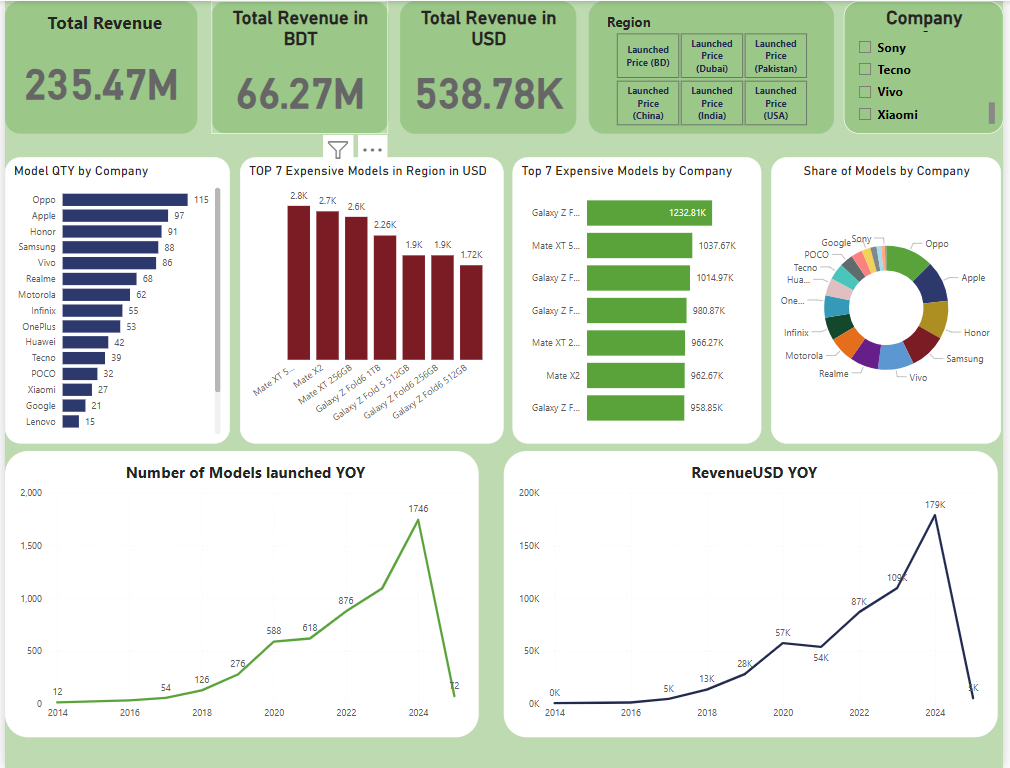

This screenshot's page, from the dashboard's own definition file:
{"tool":"powerbi","page":{"name":"Page 1","canvas":[1300,1000],"ordinal":0},"visuals":[{"type":"actionButton","box":[0,0,100,40],"z":0},{"type":"clusteredBarChart","title":"Model QTY by Company","fields":{"Category":["Mobiles PriceUnpivted.Company Name"],"Y":["Mobiles PriceUnpivted.Model QTY"]},"box":[0,203.5,293,372.7],"z":1000},{"type":"slicer","fields":{"Values":["Mobiles PriceUnpivted.Region"]},"box":[760.1,0,319,172.5],"z":2000},{"type":"clusteredColumnChart","title":"TOP 7 Expensive Models in Region in USD","fields":{"Category":["Mobiles PriceUnpivted.Model Name"],"Y":["Mobiles PriceUnpivted.RevenueUSD"]},"box":[306,203.5,343.4,372.7],"z":3000},{"type":"slicer","title":"Company","fields":{"Values":["Mobiles PriceUnpivted.Company Name"]},"box":[1092.1,0,208.3,172.5],"z":4000},{"type":"clusteredBarChart","title":"Top 7 Expensive Models by Company","fields":{"Category":["Mobiles PriceUnpivted.Model Name"],"Y":["Mobiles PriceUnpivted.MaxAmountsCompany"]},"box":[660.8,203.5,323.9,372.7],"z":5000},{"type":"card","title":"Total Revenue","fields":{"Values":["Mobiles PriceUnpivted.Total"]},"box":[0,0,250.7,172.5],"z":6000},{"type":"donutChart","title":"Share of Models by Company","fields":{"Category":["Mobiles PriceUnpivted.Company Name"],"Y":["Mobiles PriceUnpivted.Model QTY"]},"box":[997.7,203.5,299.5,372.7],"z":7000},{"type":"card","title":"Total Revenue in USD","fields":{"Values":["Mobiles PriceUnpivted.RevenueUSD"]},"box":[514.3,0,229.5,172.5],"z":7001},{"type":"card","title":"Total Revenue in BDT","fields":{"Values":["Mobiles PriceUnpivted.RevenueBDT"]},"box":[268.6,0,231.1,172.5],"z":7002},{"type":"lineChart","title":"Number of Models launched YOY","fields":{"Y":["CountNonNull(Mobiles PriceUnpivted.Company Name)"],"Category":["Mobiles PriceUnpivted.Date"]},"box":[0,585.9,616.9,372.7],"z":7003},{"type":"lineChart","title":"RevenueUSD YOY","fields":{"Category":["Mobiles PriceUnpivted.Date"],"Y":["Mobiles PriceUnpivted.RevenueUSD"]},"box":[649.4,585.9,642.9,372.7],"z":7004}]}

Visuals, with their boxes in screenshot pixels (x1, y1, x2, y2), scaled from the page's 1300x1000 canvas onto the 1010x768 screenshot:
actionButton: (0, 0, 78, 31)
"Model QTY by Company" clusteredBarChart: (0, 156, 228, 443)
slicer - Mobiles PriceUnpivted.Region: (591, 0, 838, 132)
"TOP 7 Expensive Models in Region in USD" clusteredColumnChart: (238, 156, 505, 443)
"Company" slicer: (848, 0, 1009, 132)
"Top 7 Expensive Models by Company" clusteredBarChart: (513, 156, 765, 443)
"Total Revenue" card: (0, 0, 195, 132)
"Share of Models by Company" donutChart: (775, 156, 1008, 443)
"Total Revenue in USD" card: (400, 0, 578, 132)
"Total Revenue in BDT" card: (209, 0, 388, 132)
"Number of Models launched YOY" lineChart: (0, 450, 479, 736)
"RevenueUSD YOY" lineChart: (505, 450, 1004, 736)
